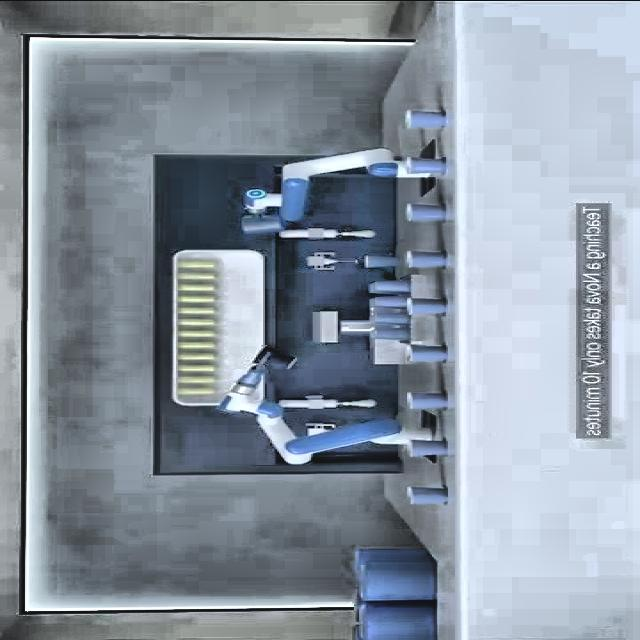robot: (214, 344, 404, 464), (238, 145, 400, 238)
